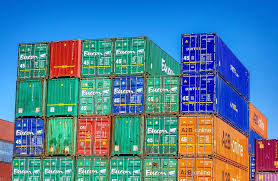container_door: (178, 113, 214, 156), (144, 74, 181, 114), (181, 32, 216, 72), (180, 72, 215, 112), (145, 114, 178, 156), (111, 76, 145, 115), (78, 76, 112, 115), (115, 36, 147, 76), (75, 118, 109, 155), (81, 39, 113, 78), (12, 117, 42, 156), (17, 43, 49, 78), (144, 157, 179, 181), (178, 157, 212, 181), (109, 157, 143, 181), (75, 157, 109, 181), (41, 157, 75, 181), (10, 158, 41, 181)
container_no_door: (48, 39, 80, 78), (15, 78, 46, 118), (47, 78, 78, 118), (110, 116, 141, 156), (44, 117, 75, 156)
